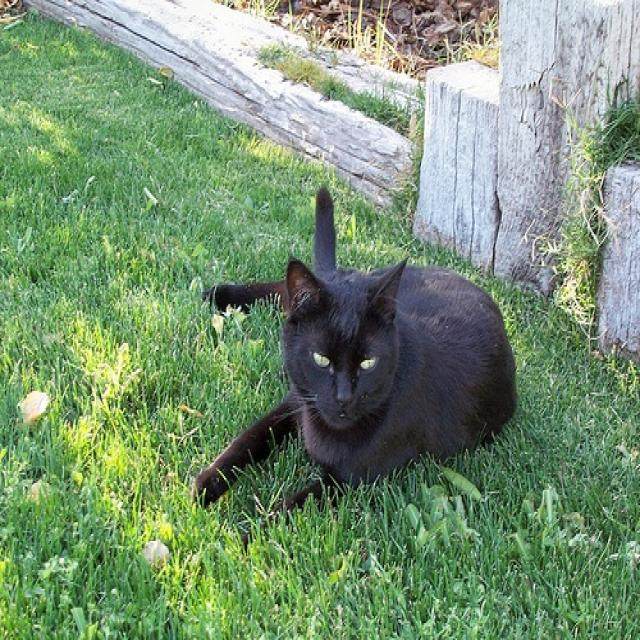cat: (186, 188, 520, 531)
